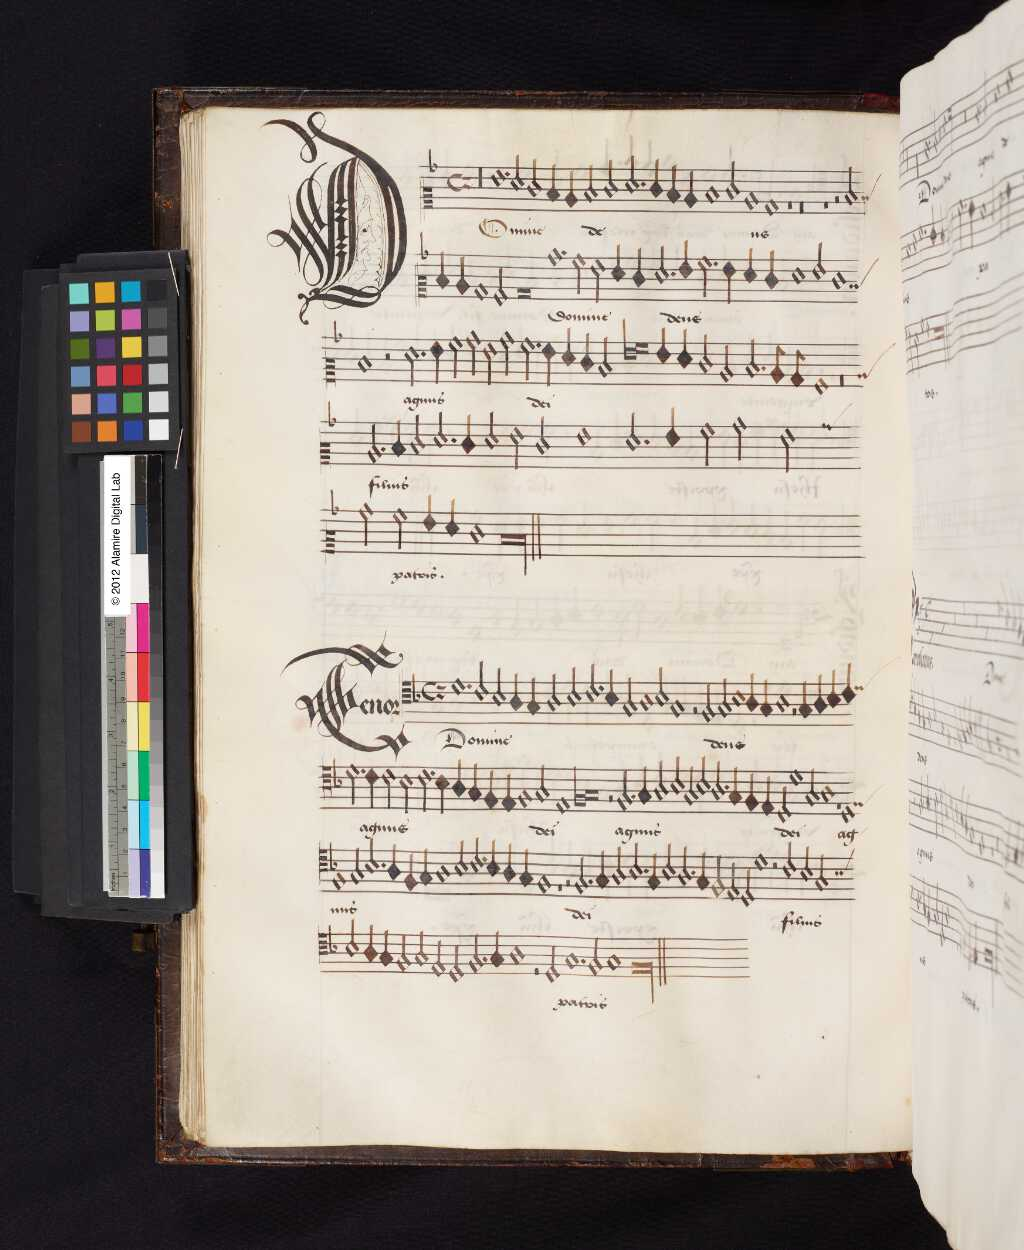breve_10: (512, 277, 536, 309)
c clef_9: (411, 264, 432, 310)
custos_8: (844, 266, 868, 300)
flat_3: (415, 226, 432, 265)
minim_11: (492, 256, 510, 312)
minim_4: (569, 244, 588, 301), (696, 247, 713, 303)
minim_5: (587, 250, 607, 306), (810, 237, 829, 287)
minim_6: (652, 237, 670, 292)
point: (556, 242, 571, 262), (664, 264, 679, 283), (707, 253, 721, 273)
semibreve_10: (471, 272, 491, 309)
semibreve_3: (542, 238, 562, 274)
semibreve_6: (788, 259, 809, 290)
semibreve_7: (828, 261, 848, 299)
semiminim_5: (720, 253, 739, 310), (677, 234, 694, 288)
semiminim_6: (610, 237, 629, 292), (742, 240, 760, 292)
semiminim_7: (762, 243, 781, 299), (630, 240, 647, 296)
semiminim_8: (433, 244, 451, 298)
semiminim_9: (454, 249, 471, 303)
